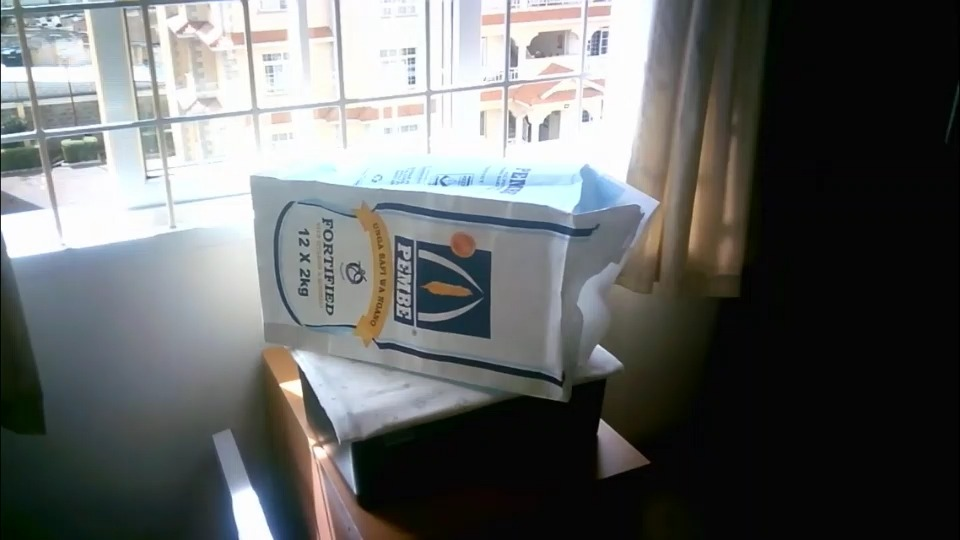wheat_flour_blue_label: (251, 151, 660, 401)
